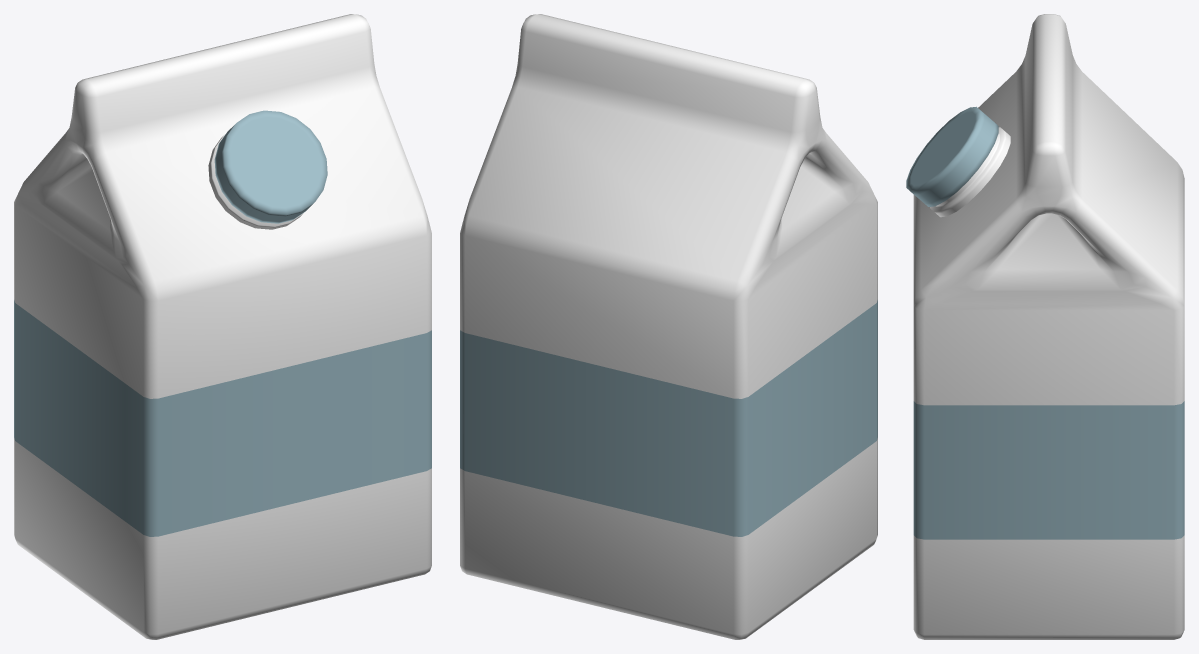
Rendered from Prop_MilkCarton_01.glb.
The picture shows the model from 3 angles, left to right: view 1: azimuth 30°, elevation 25°; view 2: azimuth 150°, elevation 25°; view 3: azimuth 270°, elevation 25°; orthographic projection. The views are drawn at different scales.
Visible parts, largest first — view 1: SM_Prop_MilkCarton_01; view 2: SM_Prop_MilkCarton_01; view 3: SM_Prop_MilkCarton_01.
Part boxes in pixels (x1=…): SM_Prop_MilkCarton_01: x1=14, y1=14, x2=431, y2=639; SM_Prop_MilkCarton_01: x1=460, y1=14, x2=877, y2=639; SM_Prop_MilkCarton_01: x1=906, y1=14, x2=1184, y2=639.
Bounding box in the file's own units: 0.25 × 0.4255 × 0.2156.
1 material, 1 textured.
